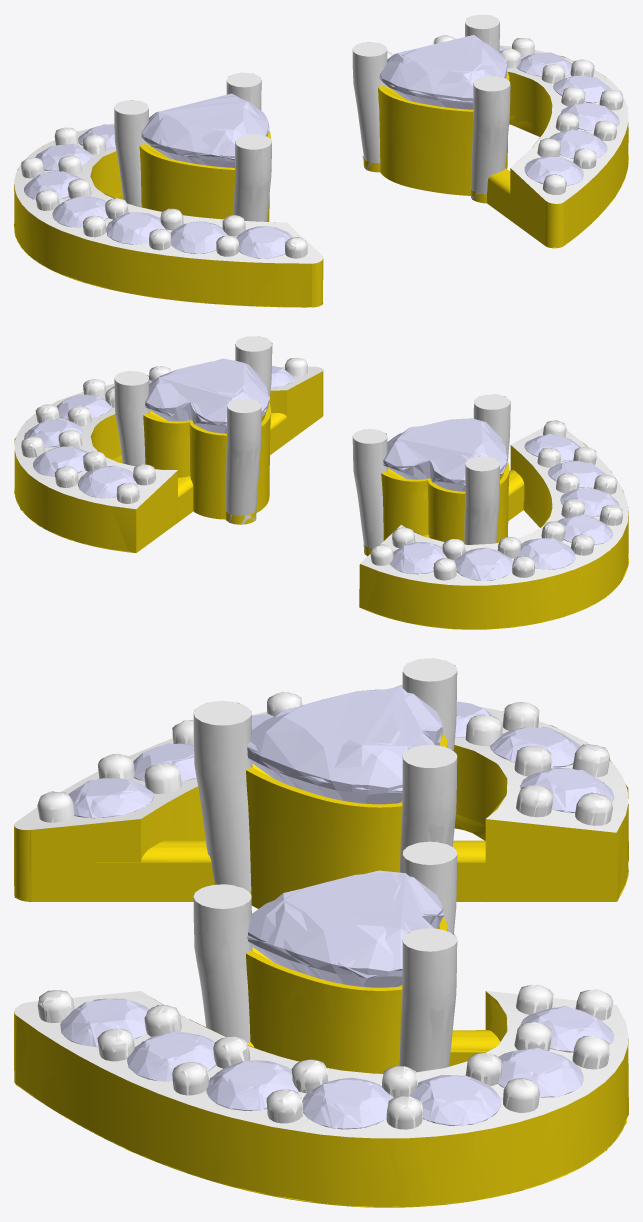
The picture shows the model from 3 angles, top to bottom: view 1: azimuth 30°, elevation 25°; view 2: azimuth 150°, elevation 25°; view 3: azimuth 270°, elevation 25°; orthographic projection. The views are drawn at different scales.
Parts seen in each view (by area): view 1: highPolyMesh, lowPolyMesh; view 2: highPolyMesh, lowPolyMesh; view 3: highPolyMesh, lowPolyMesh.
Boxes of the visible parts, x1=… form: highPolyMesh: x1=14, y1=22, x2=628, y2=307; lowPolyMesh: x1=14, y1=14, x2=628, y2=307; highPolyMesh: x1=14, y1=344, x2=628, y2=629; lowPolyMesh: x1=14, y1=336, x2=628, y2=629; highPolyMesh: x1=14, y1=658, x2=628, y2=1207; lowPolyMesh: x1=14, y1=658, x2=628, y2=1207.
Size of the model in its own units: 0.0138 by 0.00267 by 0.00813.
